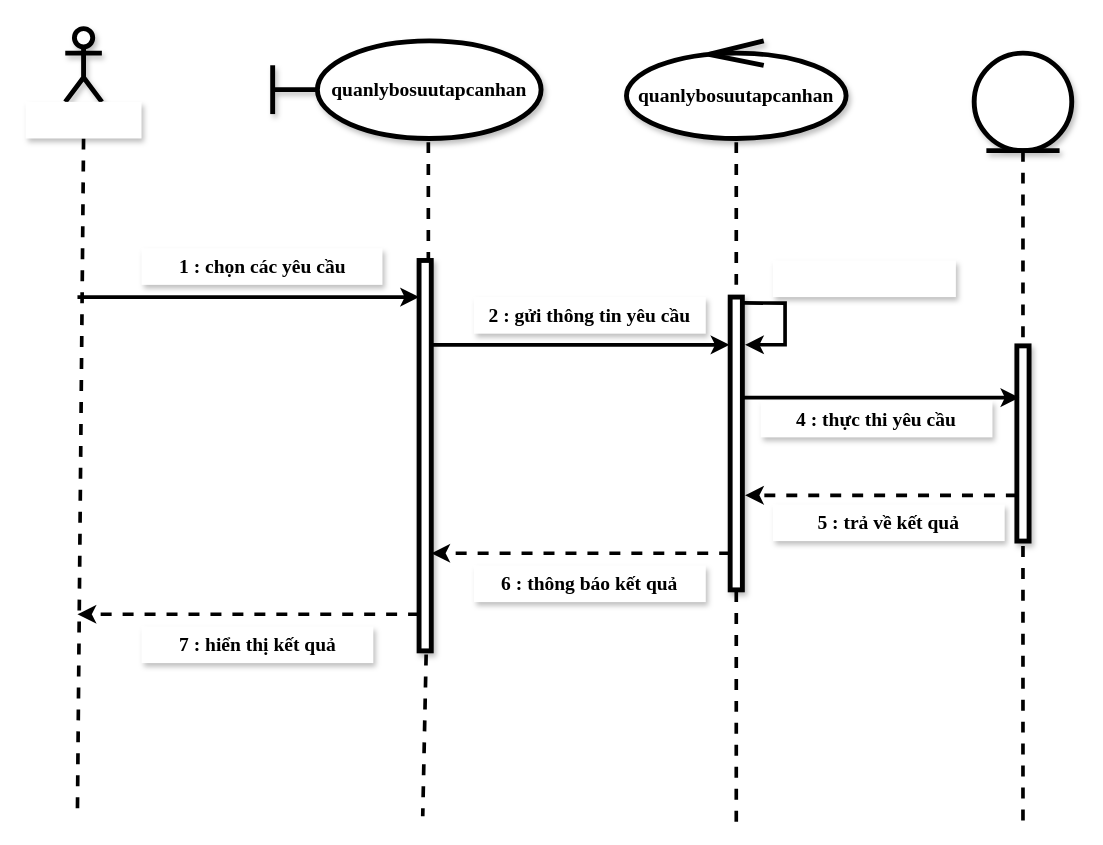
Image size: 1103x845. Some labels were removed from this diagram. Each missing label, with the centre of its shape:
3: kiểm tra yêu cầu: point 865,280
Actor: point 84,66
csdl: point 1023,103
khachhang: point 84,121
